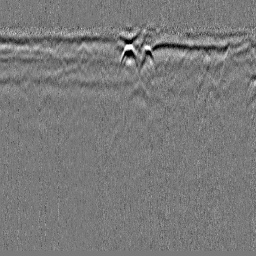cavity: (117, 41, 140, 71)
